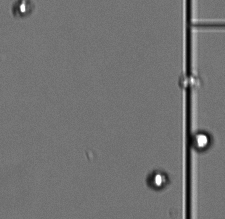Living Cell: (145, 168, 170, 191), (190, 129, 213, 153), (12, 1, 34, 17)
